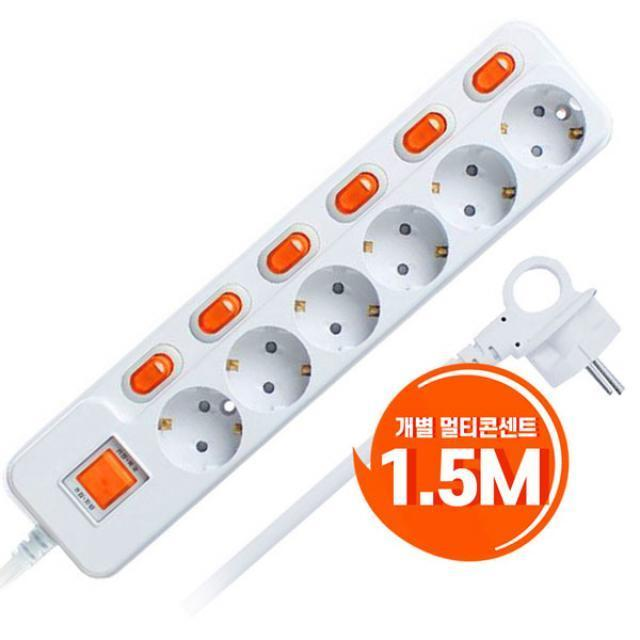typeb: (88, 20, 623, 489)
